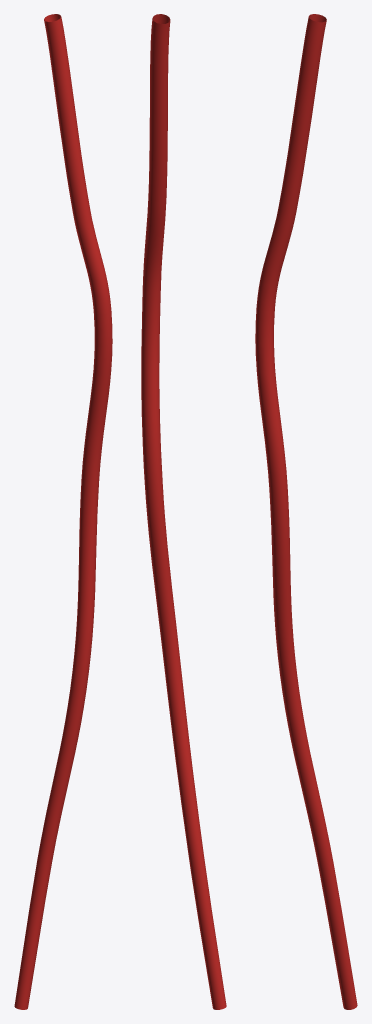
Rendered from circulatorio-superior-epigastric-veins-r.glb.
The picture shows the model from 3 angles, left to right: view 1: azimuth 90°, elevation 25°; view 2: azimuth 210°, elevation 25°; view 3: azimuth 270°, elevation 25°; orthographic projection. The views are drawn at different scales.
Visible parts, largest first — view 1: Superior epigastric veins.r; view 2: Superior epigastric veins.r; view 3: Superior epigastric veins.r.
Part boxes in pixels (<box>): Superior epigastric veins.r: <box>14,14,112,1009</box>; Superior epigastric veins.r: <box>141,14,226,1009</box>; Superior epigastric veins.r: <box>255,14,357,1009</box>.
Size of the model in its own units: 0.00932 by 0.1567 by 0.0143.
